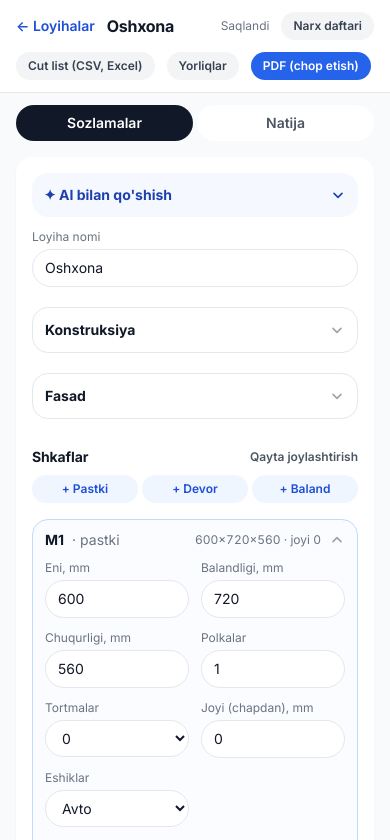
Test case: MebelProjectPage › removing a cabinet asks first; cancel keeps it
Step 1. Click the button "+ Pastki" → coordinates (85, 489), box [32,475,138,503]
(page scrolled)
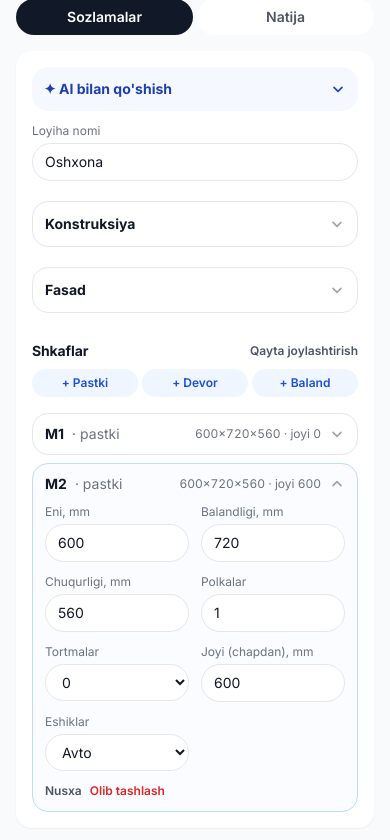
Step 2. Click the button "Olib tashlash" → coordinates (127, 791), box [90,783,165,799]
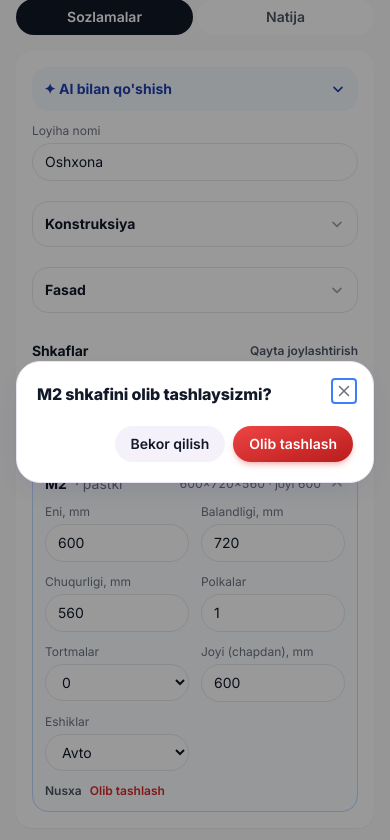
Step 3. Click the button "Bekor qilish" → coordinates (170, 444), box [115,426,225,462]
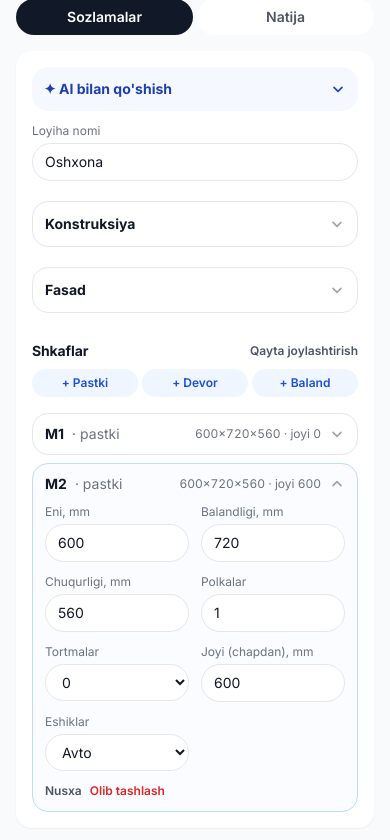
Result: the text "M2" is shown at [45,474,67,494]
Result: the dialog is gone
Step 4. Click the button "Olib tashlash" → coordinates (127, 791), box [90,783,165,799]
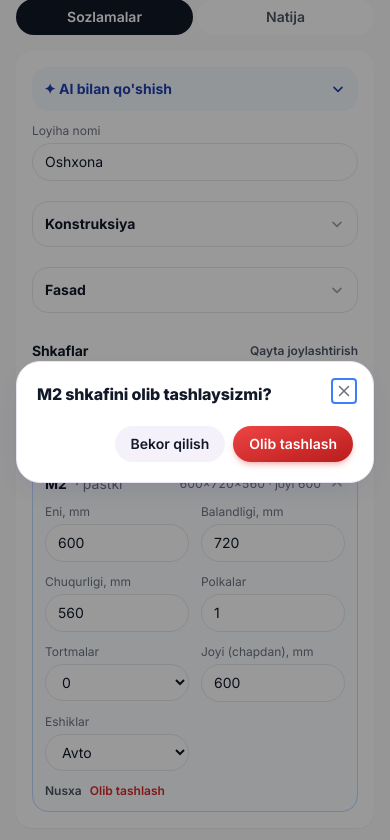
Step 5. Click the button "Olib tashlash" → coordinates (293, 444), box [233,426,353,462]
(page scrolled)
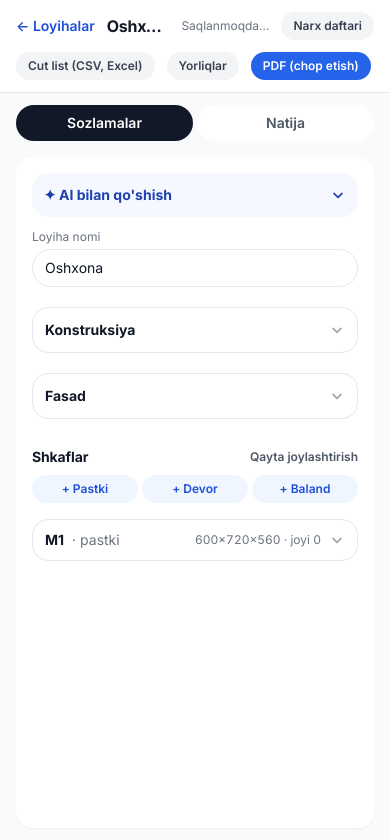
Result: the heading "M2" is gone
